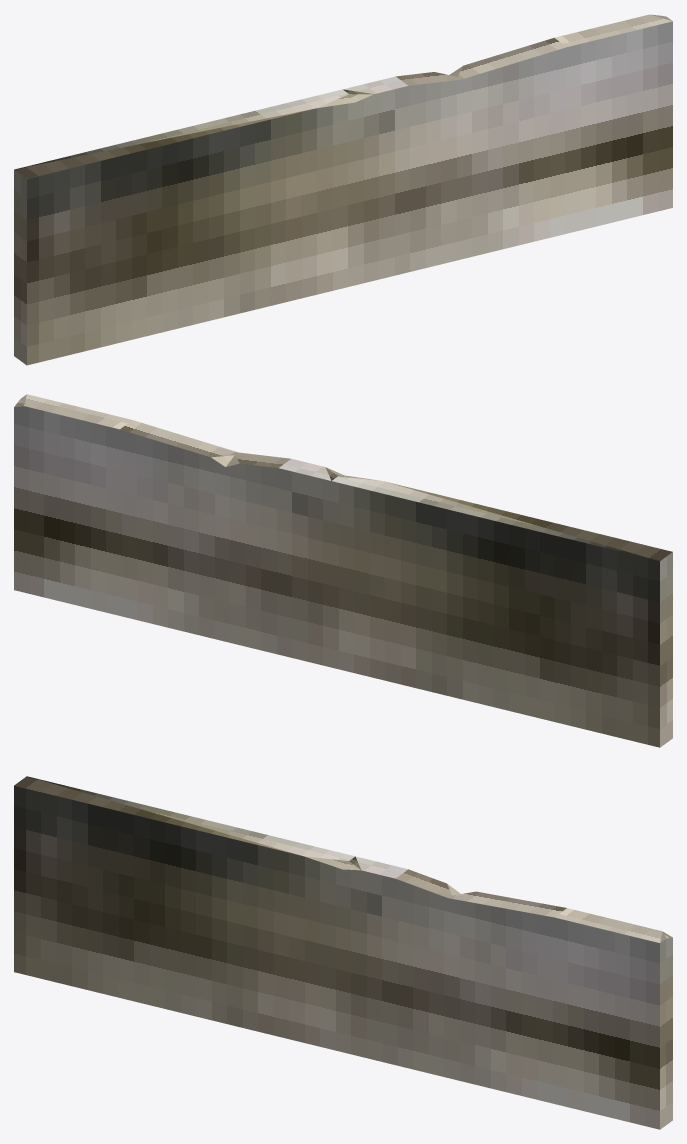
File: plackard_slab_wood_patched.glb
3 renders of one model, top to bottom at view 1: azimuth 30°, elevation 25°; view 2: azimuth 150°, elevation 25°; view 3: azimuth 330°, elevation 25°, orthographic.
Parts seen in each view (by area): view 1: plackard_slab_wood_patched; view 2: plackard_slab_wood_patched; view 3: plackard_slab_wood_patched.
Part boxes in pixels (box(x1,y1,x2,y2)): plackard_slab_wood_patched: box(14, 14, 672, 365); plackard_slab_wood_patched: box(14, 394, 672, 747); plackard_slab_wood_patched: box(14, 776, 672, 1129).
Bounding box in the file's own units: 2.9 × 0.8 × 0.1.
1 material, 1 textured.
